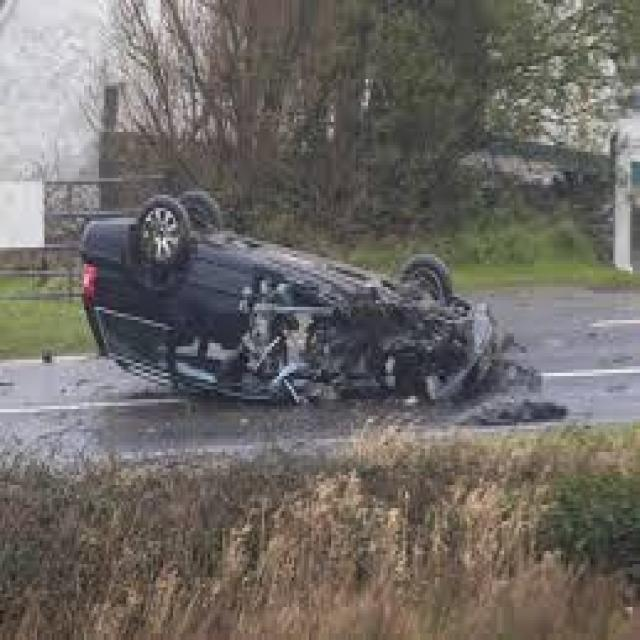severe: (68, 173, 503, 414)
